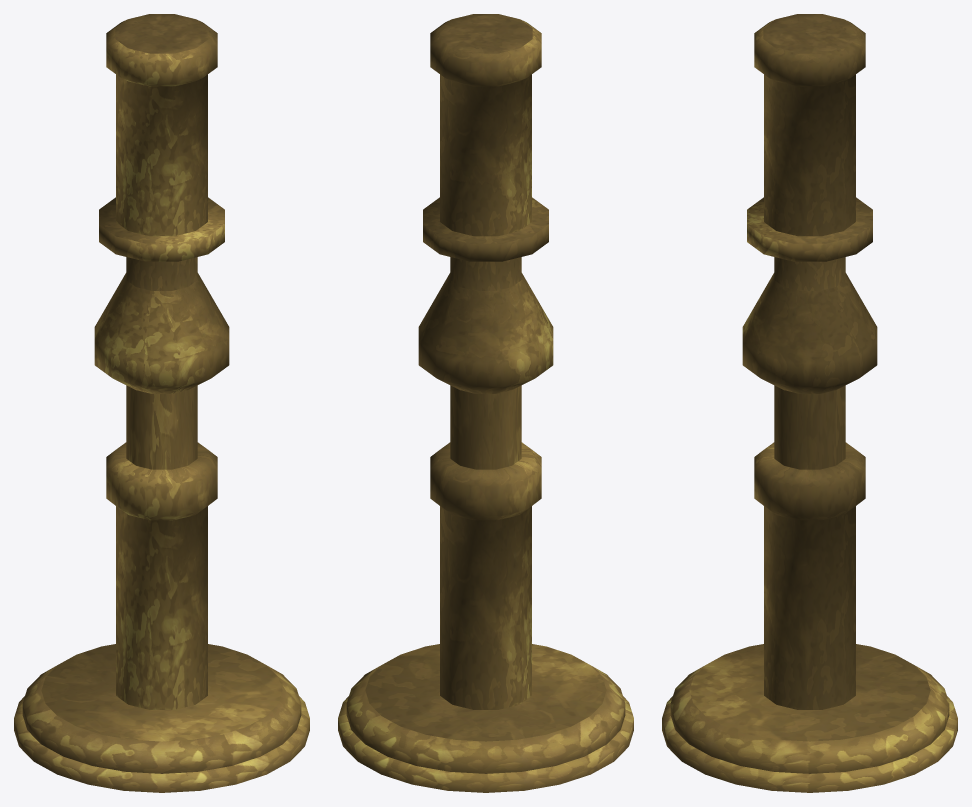
File: OT_193_candle_stand.glb
The picture shows the model from 3 angles, left to right: view 1: azimuth 30°, elevation 25°; view 2: azimuth 150°, elevation 25°; view 3: azimuth 270°, elevation 25°; orthographic projection.
Visible parts, largest first — view 1: CandleStand.001, CandleStand.005; view 2: CandleStand.001, CandleStand.005; view 3: CandleStand.001, CandleStand.005.
Boxes of the visible parts, x1=… form: CandleStand.001: x1=14, y1=197, x2=309, y2=792; CandleStand.005: x1=106, y1=14, x2=217, y2=236; CandleStand.001: x1=338, y1=197, x2=633, y2=792; CandleStand.005: x1=430, y1=14, x2=541, y2=236; CandleStand.001: x1=662, y1=197, x2=957, y2=792; CandleStand.005: x1=754, y1=14, x2=865, y2=236.
Bounding box in the file's own units: 0.75 × 1.95 × 0.75.
Materials: 1 (1 with a texture image).
